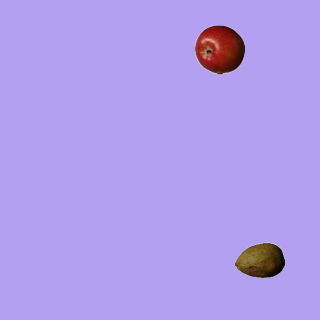Apple Braeburn: (194, 24, 244, 74)
Papaya: (234, 235, 284, 285)
